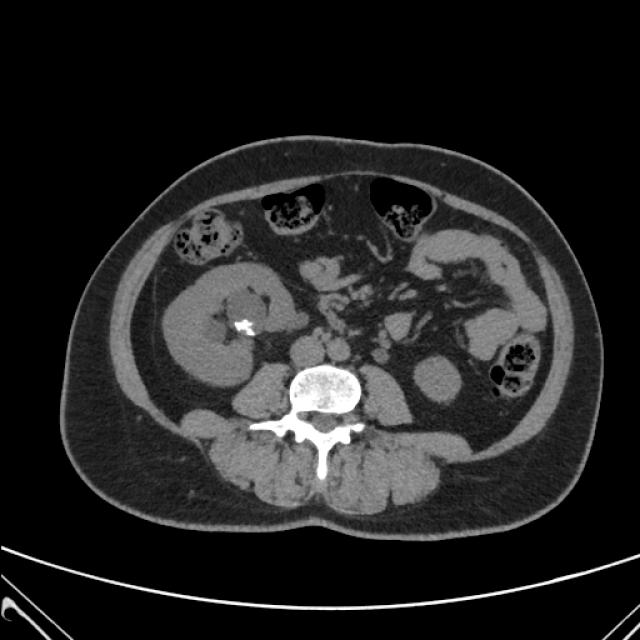kidney: (217, 289, 270, 360), (422, 360, 455, 397)
stone: (236, 322, 256, 338)
